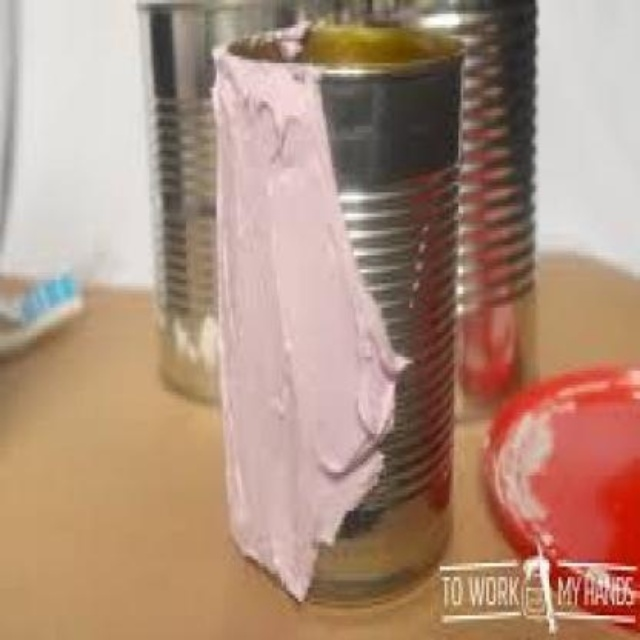trash: (214, 25, 460, 600)
